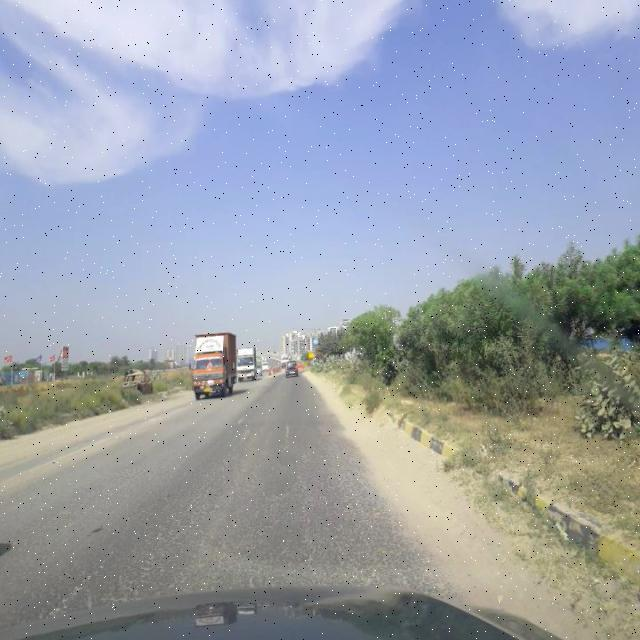D20: (22, 418, 390, 596)
D44: (61, 526, 138, 604)
